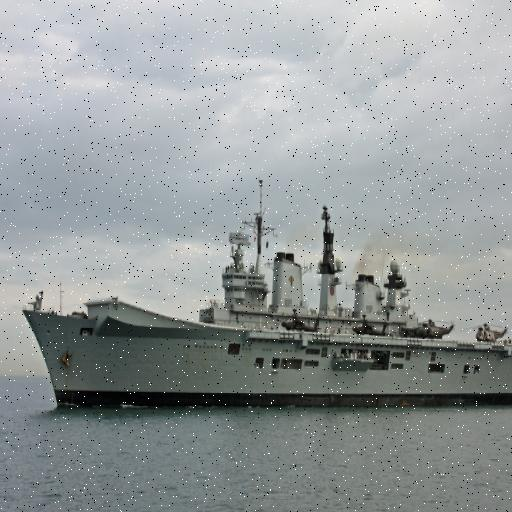Portanaves: (24, 174, 512, 415)
